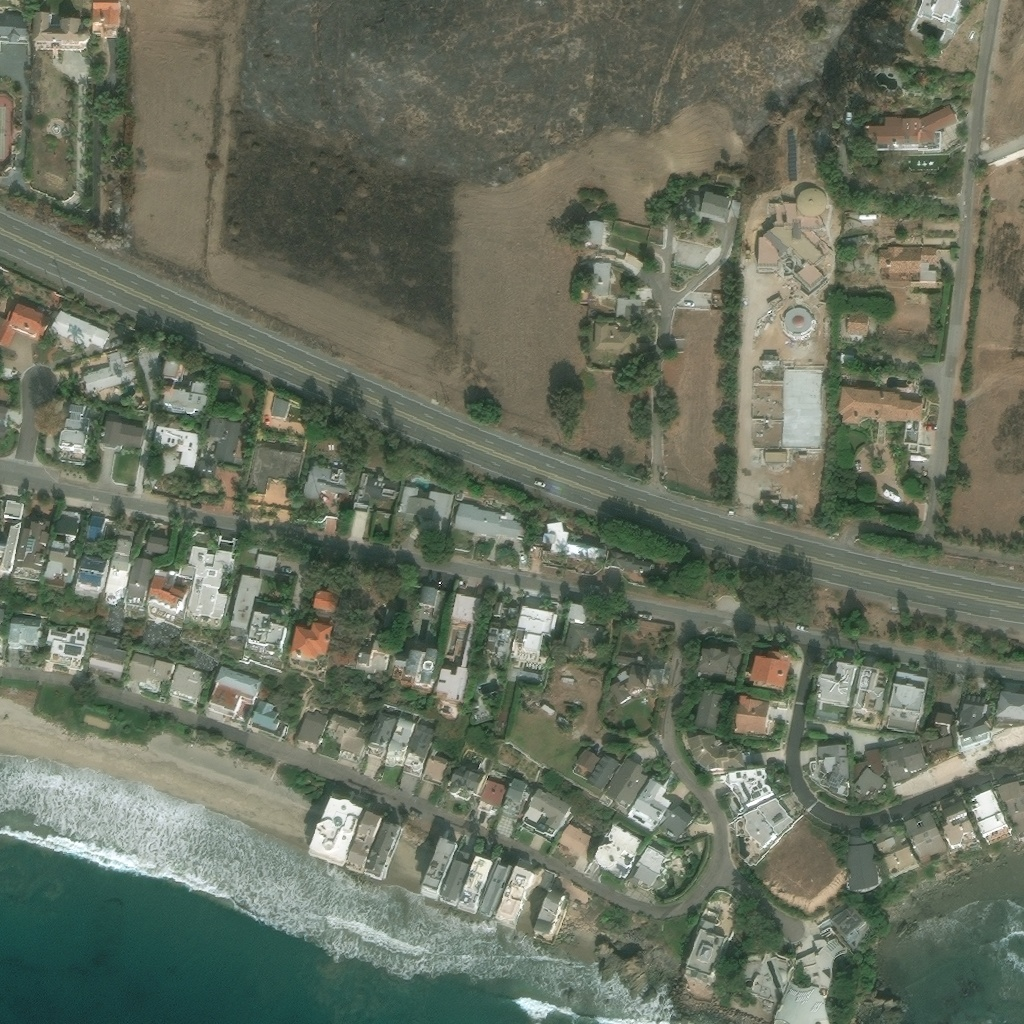0 no-damage: (733, 919, 847, 1023), (757, 201, 833, 294), (836, 385, 922, 453), (177, 545, 235, 623), (861, 104, 956, 151), (305, 793, 363, 867), (203, 665, 268, 723), (731, 797, 793, 851), (607, 654, 670, 706), (41, 510, 82, 583), (683, 909, 725, 978), (246, 443, 303, 493), (883, 670, 928, 733), (10, 516, 52, 583), (625, 771, 671, 832), (80, 346, 138, 394), (590, 823, 642, 876), (493, 864, 535, 929), (876, 246, 938, 289), (452, 501, 520, 540), (48, 309, 110, 351), (418, 837, 458, 901), (686, 736, 750, 775), (103, 529, 135, 606), (560, 603, 606, 656), (363, 820, 403, 880), (344, 811, 382, 874), (320, 713, 370, 760), (871, 829, 918, 879), (603, 759, 649, 810), (521, 787, 573, 832), (476, 856, 512, 920), (152, 423, 201, 470), (455, 855, 493, 915), (680, 188, 741, 225), (719, 768, 774, 809), (289, 612, 334, 662), (902, 811, 946, 862), (542, 522, 599, 561), (964, 789, 1007, 840), (0, 301, 46, 348), (126, 651, 175, 695), (31, 11, 86, 50), (303, 460, 350, 505), (513, 605, 558, 652), (396, 486, 453, 523), (814, 661, 857, 710), (694, 644, 744, 685), (242, 611, 287, 656), (955, 695, 991, 750), (884, 740, 927, 786), (391, 647, 438, 689), (227, 574, 262, 630), (844, 837, 878, 894), (725, 695, 770, 738), (351, 472, 398, 513), (85, 632, 126, 679), (741, 650, 790, 689), (939, 803, 977, 853), (850, 665, 888, 715), (438, 850, 472, 905), (850, 748, 885, 800), (594, 322, 648, 355), (816, 744, 848, 799), (206, 415, 242, 463), (246, 700, 291, 738), (44, 625, 90, 662), (159, 380, 207, 415), (57, 403, 91, 452), (631, 844, 667, 890), (147, 568, 185, 611), (531, 889, 565, 937), (997, 780, 1023, 841), (98, 418, 146, 451), (168, 663, 207, 701), (73, 554, 109, 595), (690, 690, 725, 732), (353, 639, 391, 675), (364, 710, 397, 751), (294, 709, 330, 746), (6, 616, 42, 652), (556, 823, 592, 859), (830, 908, 866, 944), (434, 667, 468, 705), (405, 722, 435, 764), (585, 754, 619, 791), (385, 717, 415, 758), (659, 806, 693, 842), (125, 558, 151, 605), (508, 639, 546, 671), (606, 549, 652, 575), (91, 0, 121, 39), (501, 777, 531, 816), (780, 307, 815, 340), (920, 722, 953, 756), (0, 521, 21, 573), (445, 765, 481, 795), (476, 779, 506, 815), (421, 748, 449, 783), (484, 622, 510, 659), (0, 11, 29, 44), (795, 188, 826, 218), (450, 594, 480, 624), (995, 691, 1023, 722), (575, 747, 601, 774), (311, 589, 338, 615), (616, 297, 644, 322), (161, 358, 189, 382), (590, 262, 610, 295), (141, 536, 169, 558), (84, 515, 104, 544), (583, 219, 604, 246), (845, 311, 868, 335), (416, 585, 440, 608), (3, 499, 23, 521), (270, 396, 289, 419), (787, 130, 795, 182), (254, 553, 276, 571), (840, 234, 869, 247), (382, 608, 399, 625), (197, 460, 213, 478), (763, 451, 786, 463), (882, 488, 900, 503), (933, 712, 954, 724), (835, 352, 854, 365), (912, 72, 928, 87), (759, 354, 779, 366), (764, 719, 776, 738), (539, 704, 554, 716), (491, 602, 503, 617), (579, 287, 588, 304), (556, 716, 568, 727), (79, 30, 89, 42), (847, 98, 856, 111), (857, 214, 876, 220), (845, 112, 853, 126), (245, 545, 256, 554), (559, 677, 574, 683), (506, 607, 514, 618), (873, 355, 885, 361), (968, 33, 974, 39)
3 destroyed: (110, 201, 121, 211)
4 un-classified: (914, 0, 961, 23), (0, 405, 6, 439), (3, 367, 13, 378), (0, 608, 5, 624), (0, 636, 3, 654)
